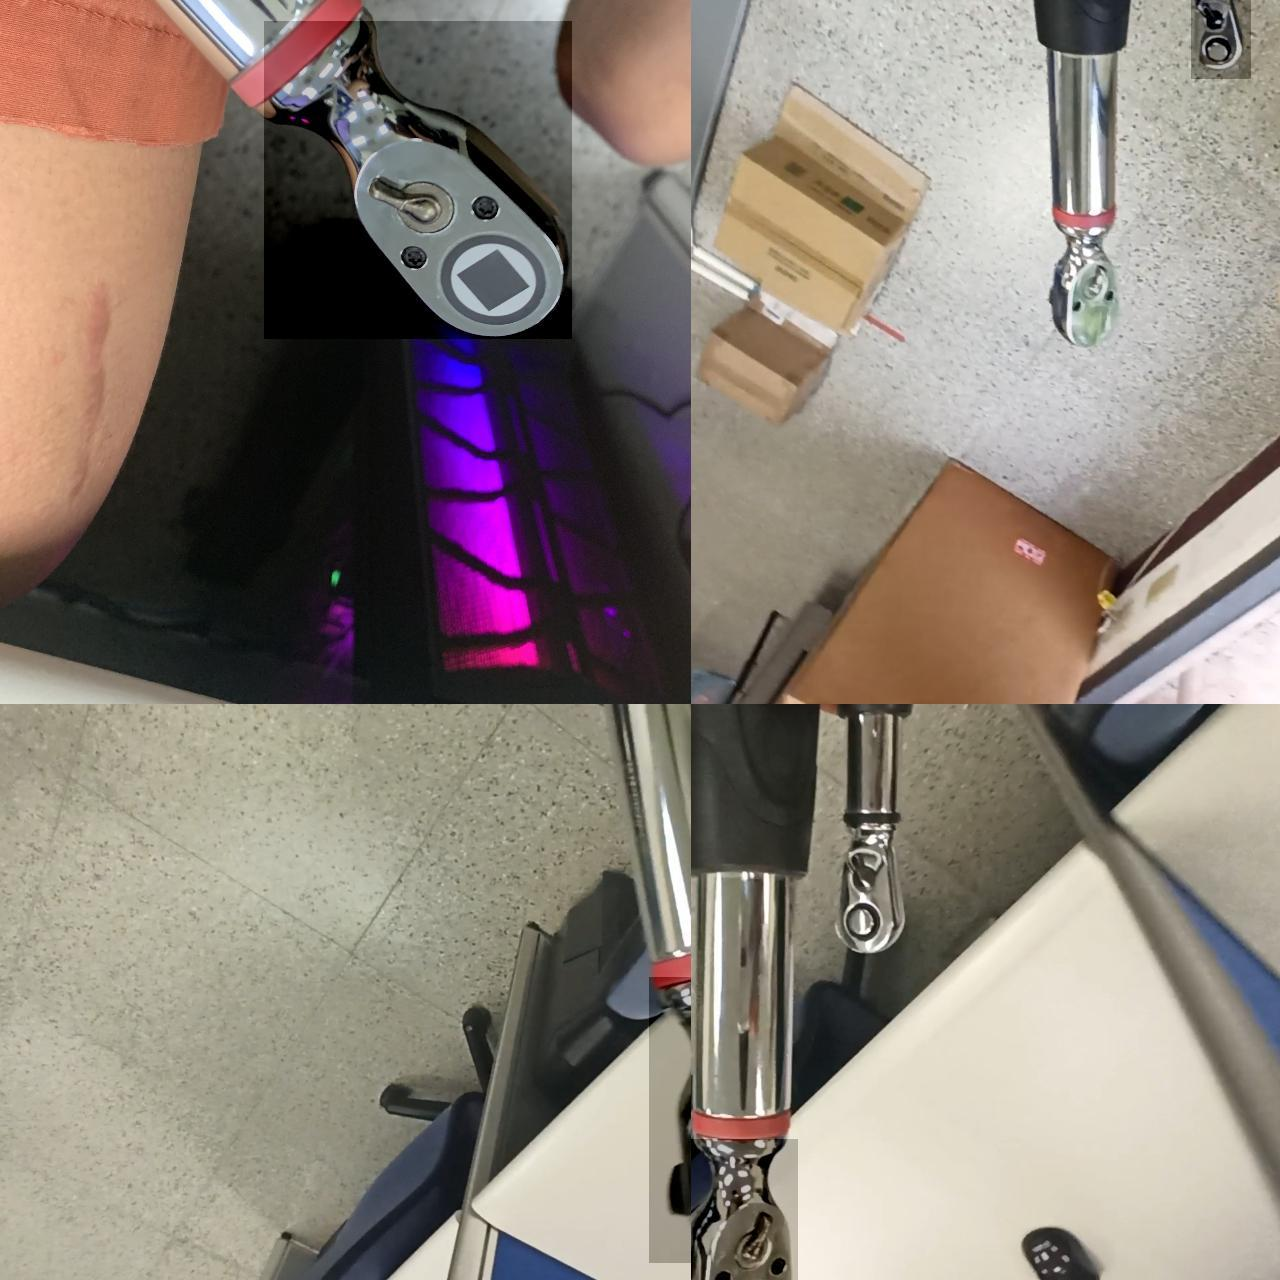Tool: (263, 20, 571, 338), (692, 1138, 797, 1280), (648, 975, 692, 1262), (1044, 222, 1131, 349), (831, 813, 901, 956), (1190, 0, 1250, 79)
